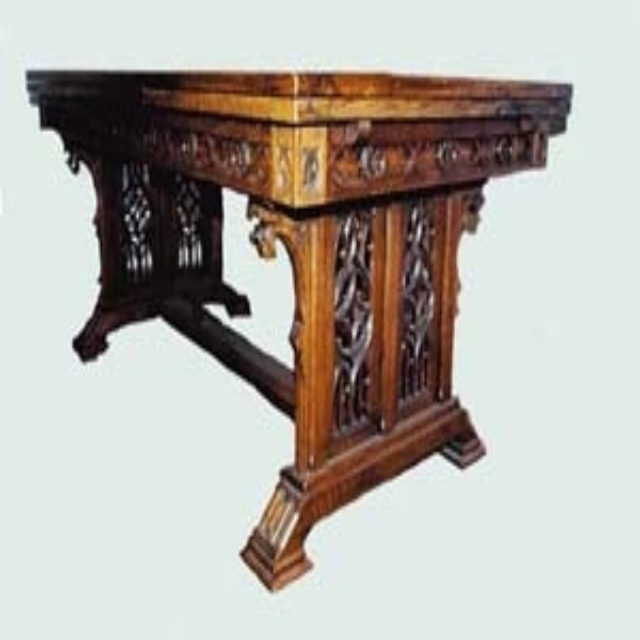obstacle: (28, 70, 570, 586)
